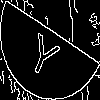Y: (25, 25, 65, 81)
